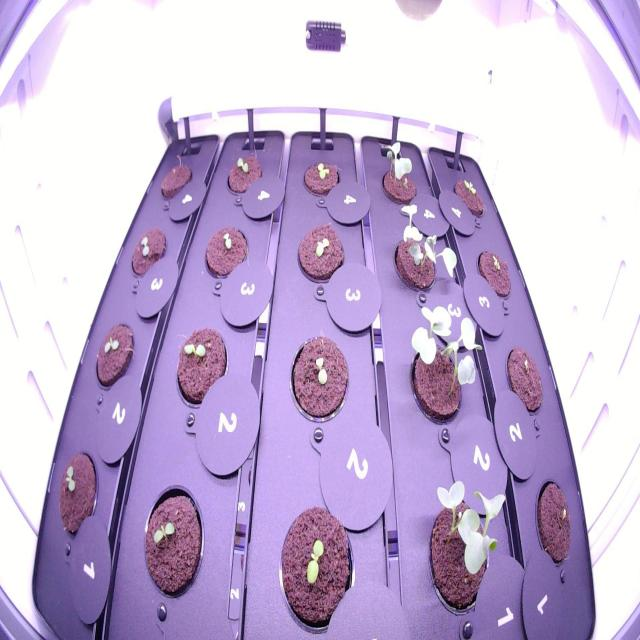germination: (272, 500, 361, 638), (138, 474, 208, 608), (286, 326, 354, 431), (172, 318, 232, 421), (52, 441, 104, 545), (530, 473, 577, 574), (497, 340, 552, 425), (291, 214, 349, 290), (89, 313, 137, 395), (199, 218, 253, 290), (374, 134, 420, 208), (470, 239, 515, 307), (124, 221, 169, 288), (296, 152, 344, 208), (223, 147, 267, 207), (448, 168, 489, 222)
pod: (157, 150, 194, 208)
